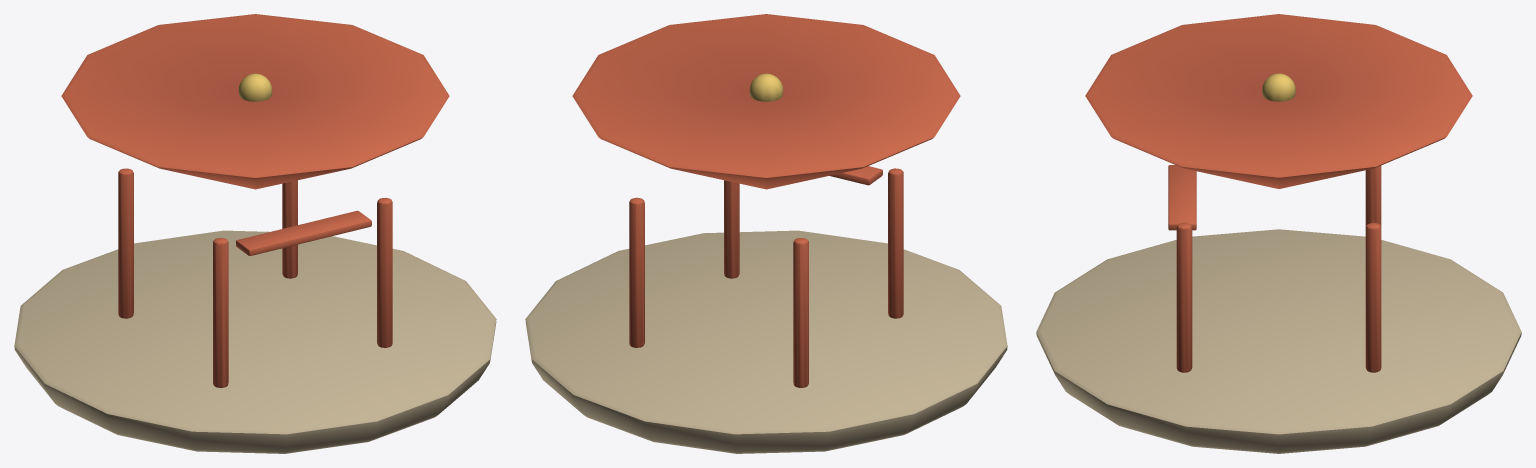
3 views of the same model, side by side, from view 1: azimuth 30°, elevation 25°; view 2: azimuth 150°, elevation 25°; view 3: azimuth 270°, elevation 25° (orthographic).
Parts seen in each view (by area): view 1: landmark_3942f0e3; view 2: landmark_3942f0e3; view 3: landmark_3942f0e3.
Boxes of the visible parts, <box> form: landmark_3942f0e3: <box>14,14,496,453</box>; landmark_3942f0e3: <box>525,14,1007,453</box>; landmark_3942f0e3: <box>1036,14,1521,453</box>.
Bounding box in the file's own units: 5.13 × 3.33 × 5.13.
